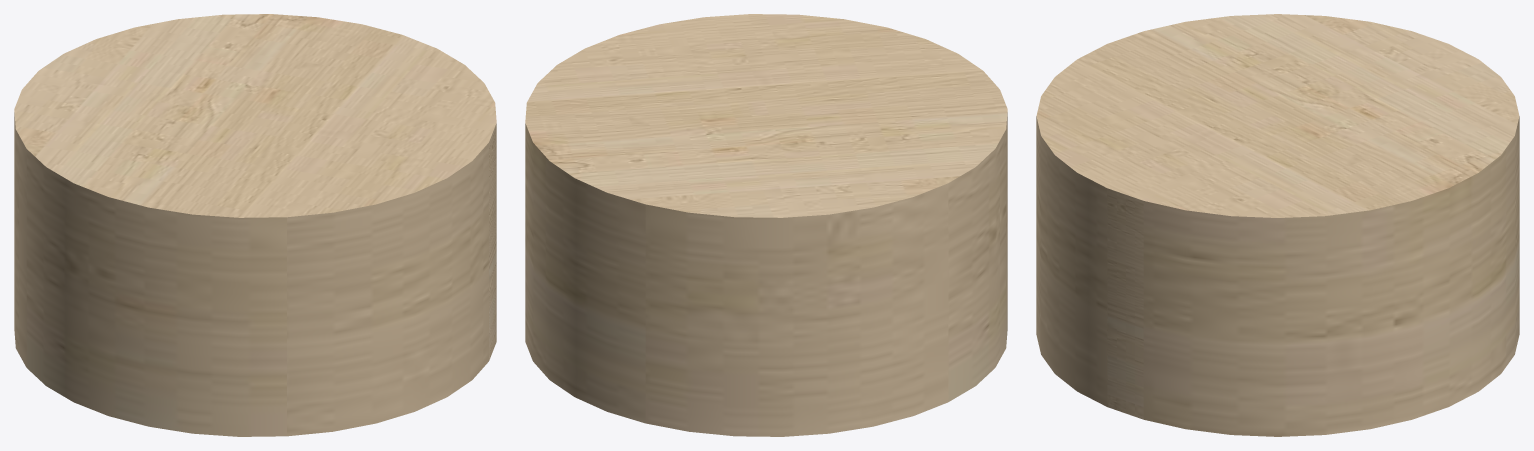
Rendered from rond.glb.
3 renders of one model, left to right at view 1: azimuth 30°, elevation 25°; view 2: azimuth 150°, elevation 25°; view 3: azimuth 270°, elevation 25°, orthographic.
Parts seen in each view (by area): view 1: Circle; view 2: Circle; view 3: Circle.
Part boxes in pixels (box(x1,y1,x2,y2)): Circle: box(14, 14, 496, 436); Circle: box(525, 14, 1007, 436); Circle: box(1036, 14, 1519, 436).
Size of the model in its own units: 2 by 1 by 2.
1 material, 1 textured.
